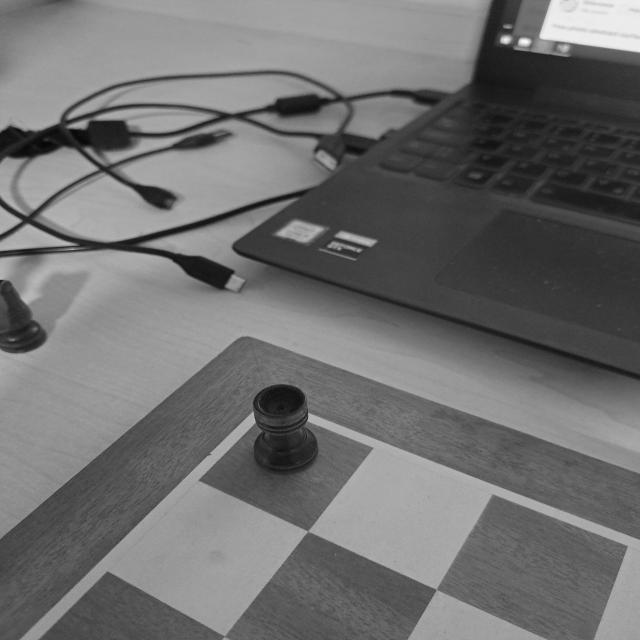chess-table-corners: (205, 382, 346, 444)
